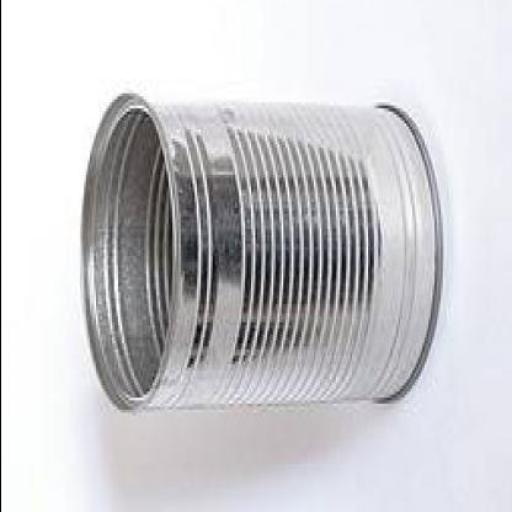metal: (76, 96, 440, 416)
